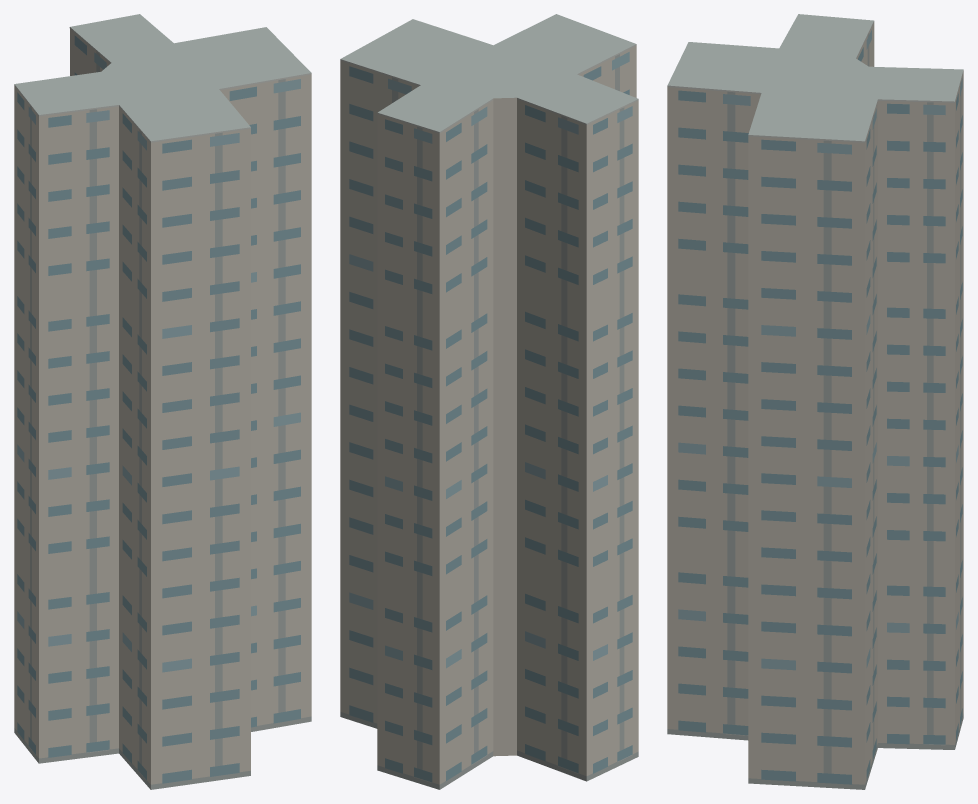
The model's file is residential-aa7574c9-9c21-4fc1-8ef3-b66db50ef7ca.glb.
The picture shows the model from 3 angles, left to right: view 1: azimuth 30°, elevation 25°; view 2: azimuth 150°, elevation 25°; view 3: azimuth 270°, elevation 25°; orthographic projection.
Visible parts, largest first — view 1: residential-aa7574c9-9c21-4fc1-8ef3-b66db50ef7ca.tmp; view 2: residential-aa7574c9-9c21-4fc1-8ef3-b66db50ef7ca.tmp; view 3: residential-aa7574c9-9c21-4fc1-8ef3-b66db50ef7ca.tmp.
Part boxes in pixels (x1,y1,x2,y2): residential-aa7574c9-9c21-4fc1-8ef3-b66db50ef7ca.tmp: (14, 14, 311, 789); residential-aa7574c9-9c21-4fc1-8ef3-b66db50ef7ca.tmp: (340, 14, 638, 789); residential-aa7574c9-9c21-4fc1-8ef3-b66db50ef7ca.tmp: (667, 14, 963, 789).
Size of the model in its own units: 44.95 by 107 by 44.19.
